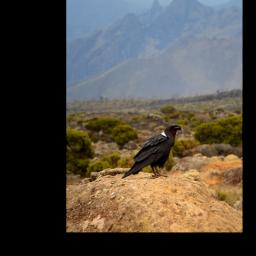Crow: (120, 123, 184, 182)
